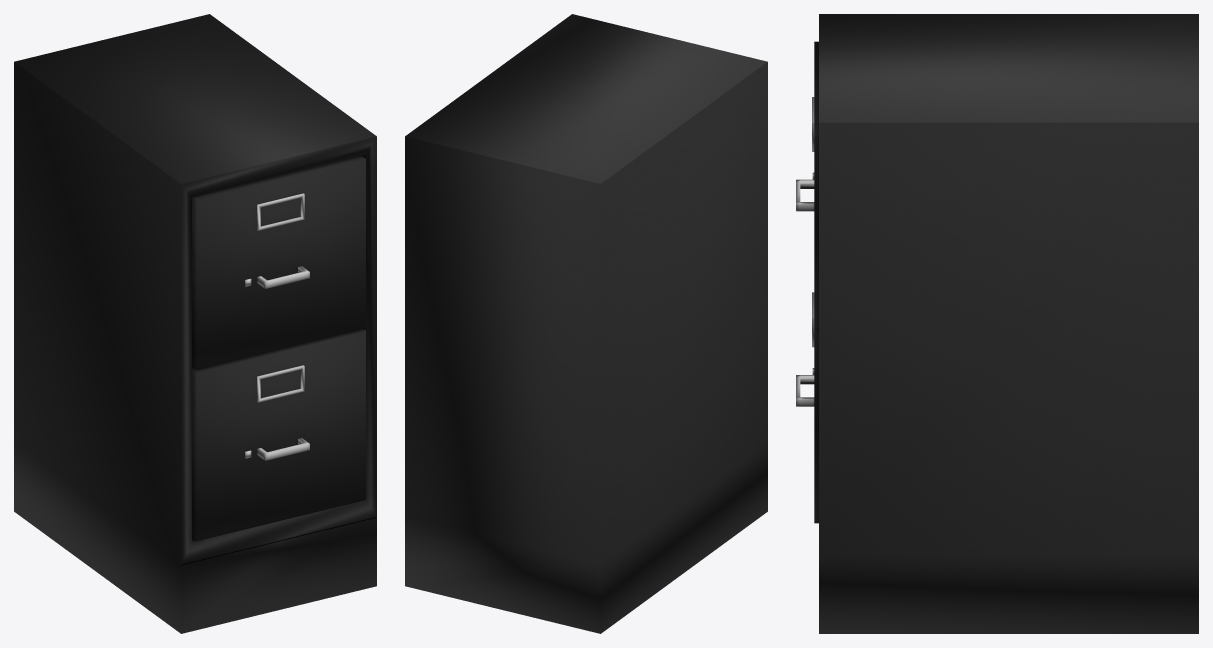
Rendered from Office_Cabinet2Drawer_1.fbx.
3 views of the same model, side by side, from view 1: azimuth 30°, elevation 25°; view 2: azimuth 150°, elevation 25°; view 3: azimuth 270°, elevation 25° (orthographic). The views are drawn at different scales.
Parts seen in each view (by area): view 1: Office_Cabinet2Drawer_1; view 2: Office_Cabinet2Drawer_1; view 3: Office_Cabinet2Drawer_1.
Boxes of the visible parts, x1,y1,x2,y2 form: Office_Cabinet2Drawer_1: (14,14,376,633); Office_Cabinet2Drawer_1: (405,14,767,633); Office_Cabinet2Drawer_1: (796,14,1198,633).
Bounding box in the file's own units: 34.6 × 76.02 × 54.29.
